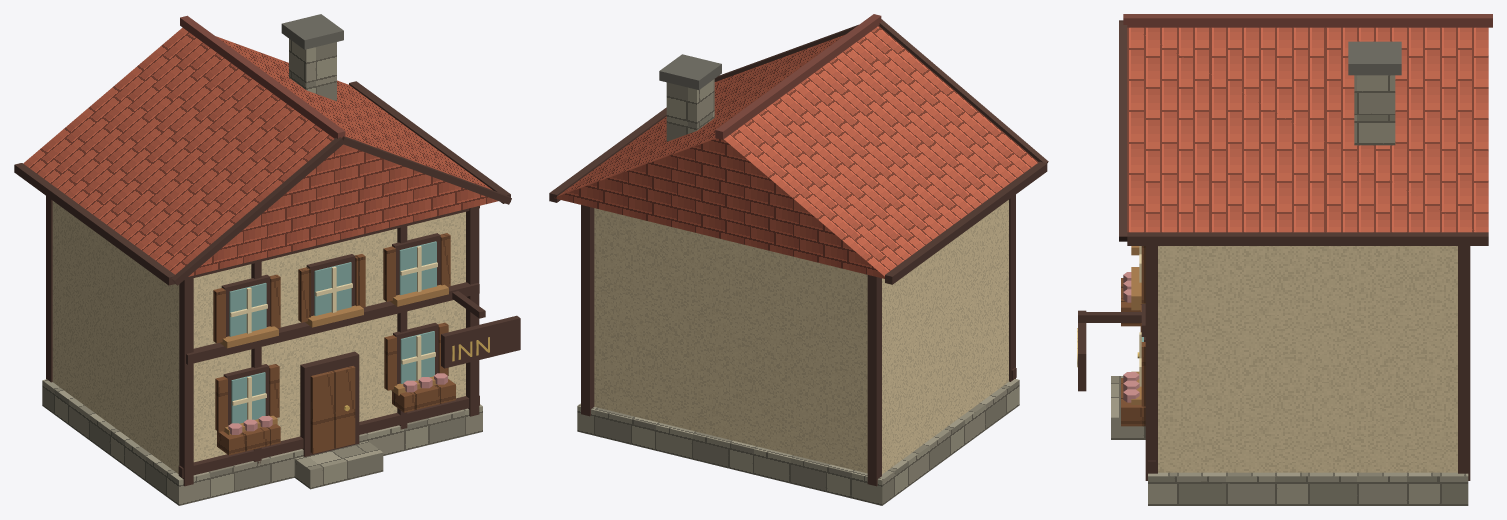
File: inn.glb
3 renders of one model, left to right at view 1: azimuth 30°, elevation 25°; view 2: azimuth 150°, elevation 25°; view 3: azimuth 270°, elevation 25°, orthographic. The views are drawn at different scales.
Parts seen in each view (by area): view 1: village_inn; view 2: village_inn; view 3: village_inn.
Boxes of the visible parts, x1,y1,x2,y2 form: village_inn: [14, 14, 520, 505]; village_inn: [549, 14, 1048, 505]; village_inn: [1077, 14, 1492, 505].
Bounding box in the file's own units: 112 × 110 × 101.
Materials: 12 (4 with a texture image).
